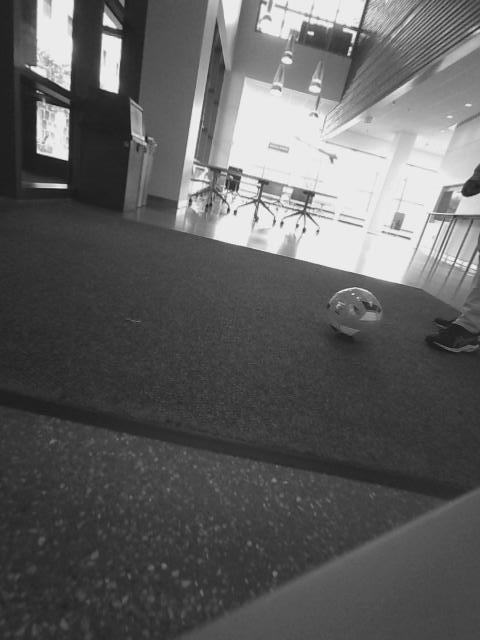ball: (326, 285, 385, 347)
